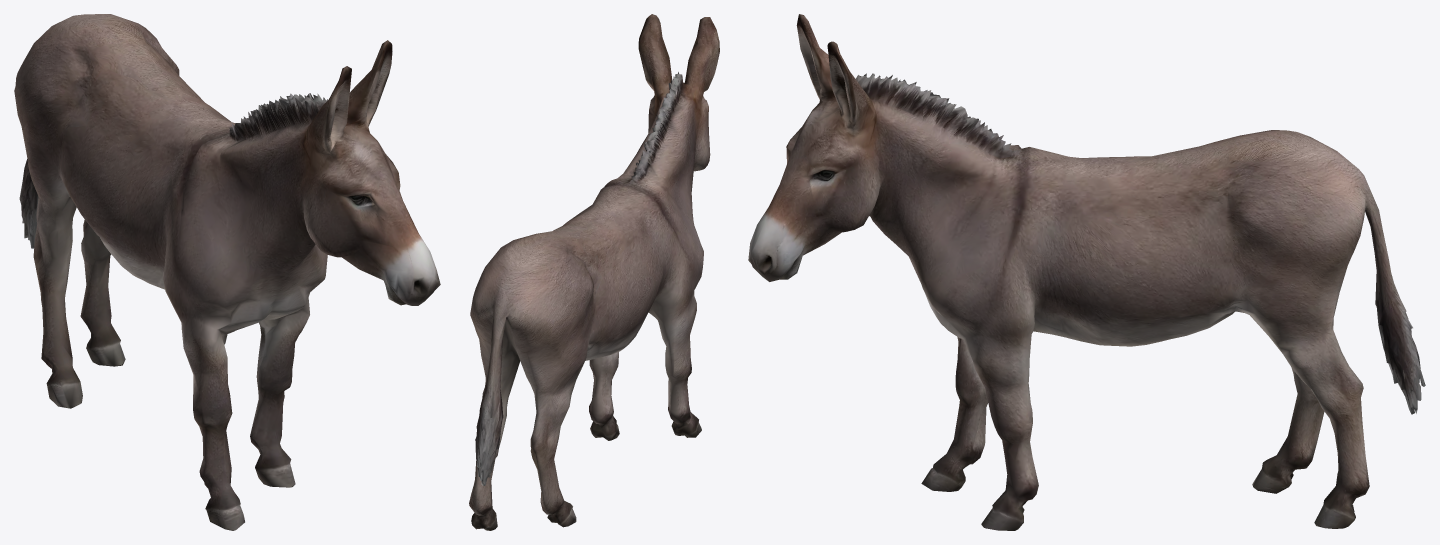
The model's file is animal_donkey.glb.
3 views of the same model, side by side, from view 1: azimuth 30°, elevation 25°; view 2: azimuth 150°, elevation 25°; view 3: azimuth 270°, elevation 25° (orthographic). The views are drawn at different scales.
Parts seen in each view (by area): view 1: tripo_node_6d08d3ff-736d-4116-813a-d93fcc062bc9; view 2: tripo_node_6d08d3ff-736d-4116-813a-d93fcc062bc9; view 3: tripo_node_6d08d3ff-736d-4116-813a-d93fcc062bc9.
Boxes of the visible parts, left/top/right/bottom form: tripo_node_6d08d3ff-736d-4116-813a-d93fcc062bc9: left=14, top=14, right=440, bottom=530; tripo_node_6d08d3ff-736d-4116-813a-d93fcc062bc9: left=469, top=14, right=719, bottom=530; tripo_node_6d08d3ff-736d-4116-813a-d93fcc062bc9: left=748, top=14, right=1425, bottom=530.
Bounding box in the file's own units: 0.2518 × 0.7904 × 0.9787.
1 material, 1 textured.
